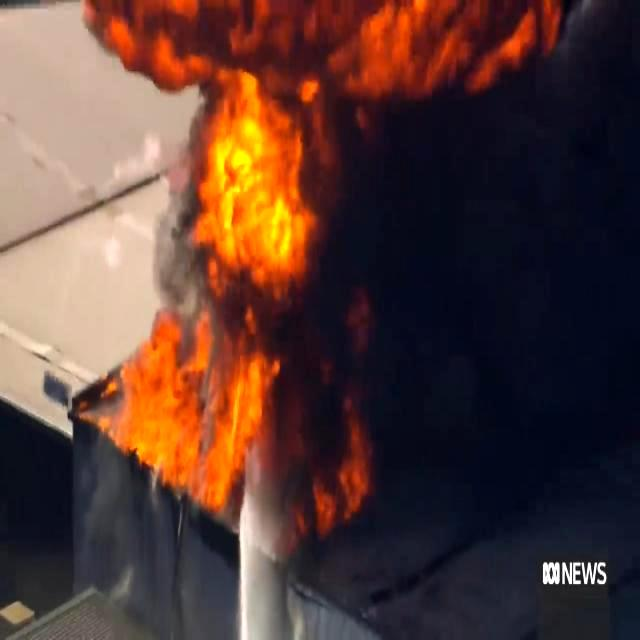fire: (197, 74, 329, 302), (120, 328, 286, 492), (334, 0, 538, 100)
